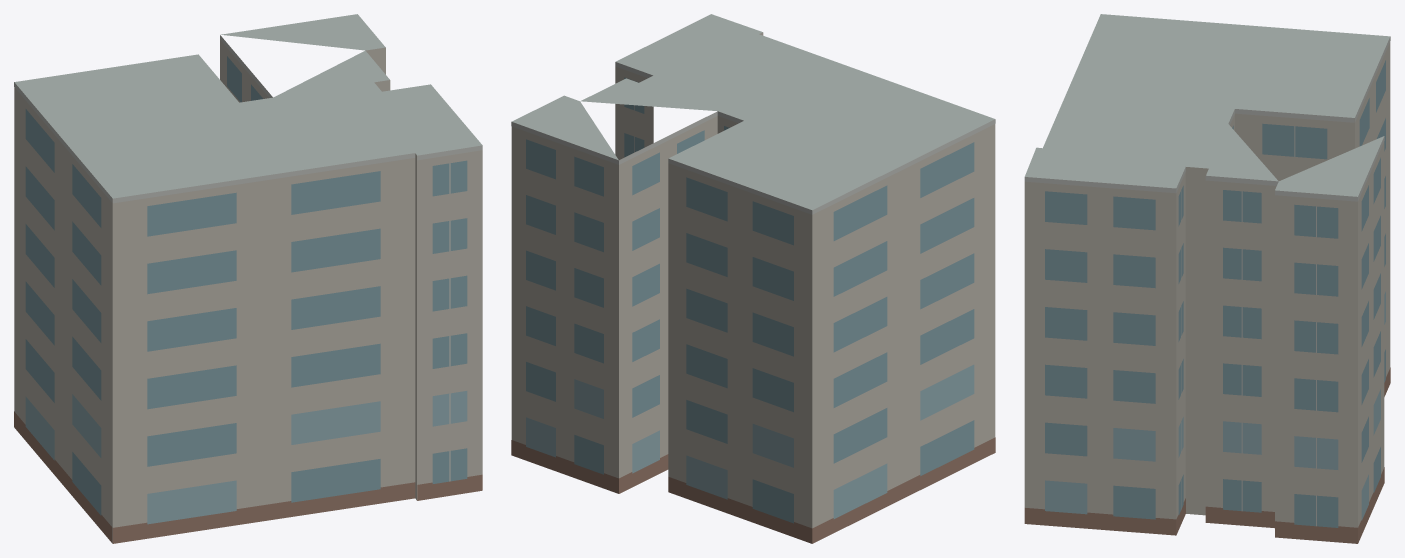
The model's file is survey-upis-32657089.glb.
3 views of the same model, side by side, from view 1: azimuth 30°, elevation 25°; view 2: azimuth 150°, elevation 25°; view 3: azimuth 270°, elevation 25° (orthographic). The views are drawn at different scales.
Parts seen in each view (by area): view 1: survey-upis-32657089.tmp; view 2: survey-upis-32657089.tmp; view 3: survey-upis-32657089.tmp.
Boxes of the visible parts, x1,y1,x2,y2 form: survey-upis-32657089.tmp: (14,14,482,543); survey-upis-32657089.tmp: (511,14,995,543); survey-upis-32657089.tmp: (1024,14,1390,543).
Bounding box in the file's own units: 19.9 × 17.6 × 16.82.
